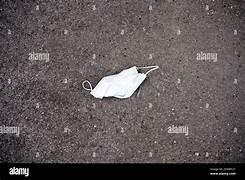Mask: (82, 66, 158, 98)
